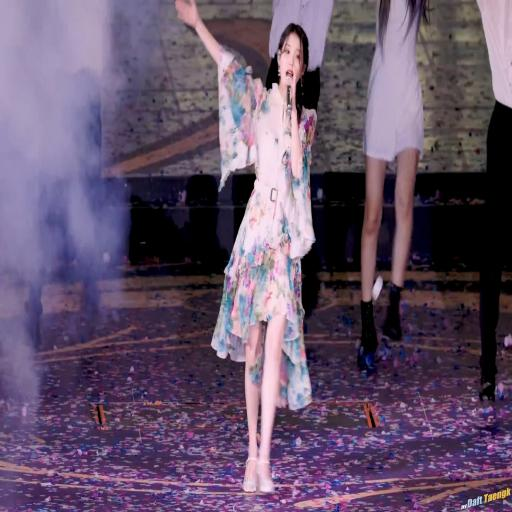IU: (276, 24, 309, 90)
